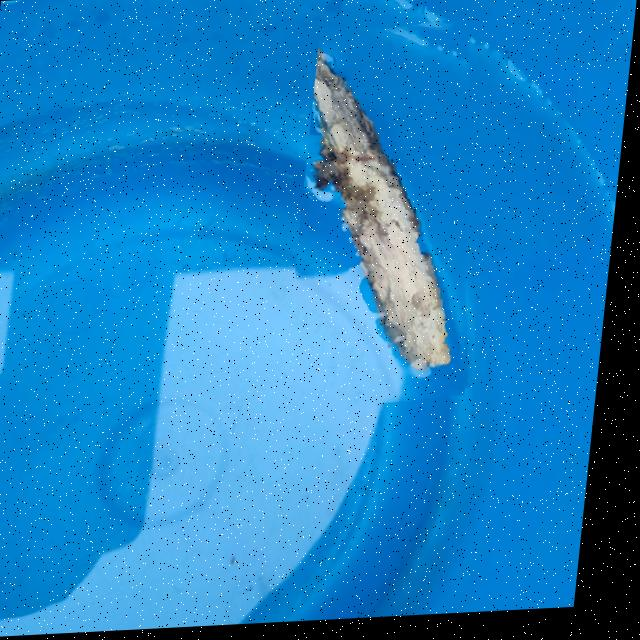litter: (289, 22, 504, 411)
